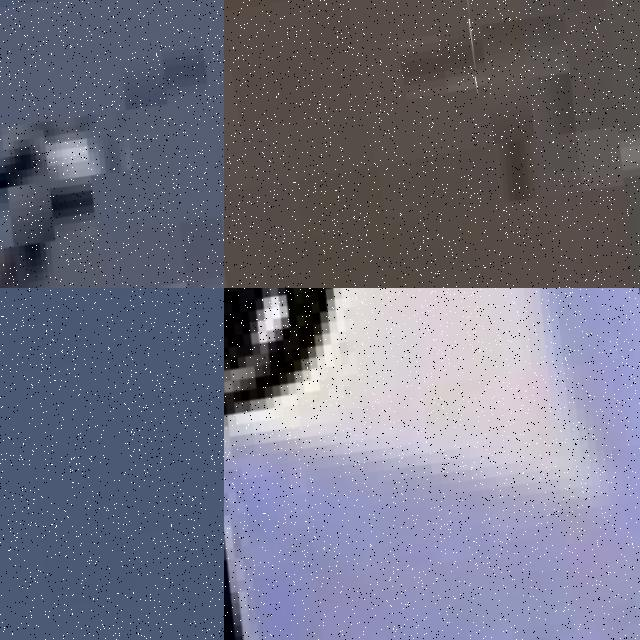drone: (224, 288, 640, 640), (0, 0, 224, 288), (457, 0, 640, 288)
